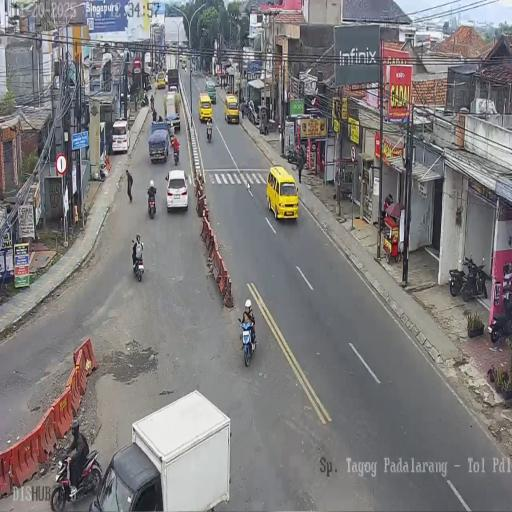3: (166, 51, 178, 74)
car: (267, 164, 298, 221), (166, 168, 188, 211), (148, 123, 170, 163), (111, 118, 130, 155), (164, 91, 180, 130), (225, 93, 240, 125), (205, 78, 217, 104), (246, 100, 259, 124), (157, 71, 166, 89), (169, 82, 178, 93), (182, 60, 186, 70), (165, 72, 168, 85)
truck: (50, 444, 102, 512), (461, 255, 488, 302), (489, 298, 512, 342), (238, 316, 256, 366), (132, 242, 145, 281), (449, 268, 466, 297), (287, 144, 305, 167), (147, 191, 156, 219), (172, 140, 180, 166), (167, 121, 174, 141), (206, 121, 212, 142), (141, 94, 148, 107), (152, 107, 157, 122), (150, 96, 154, 110)
